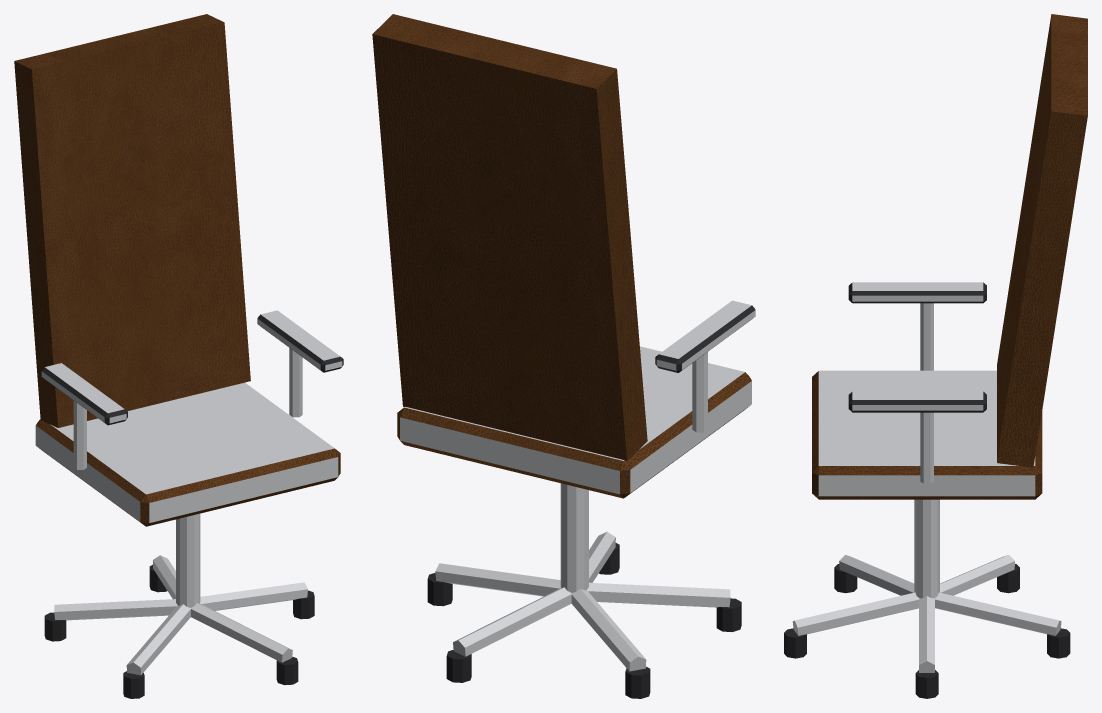
File: judges_chair.glb
3 renders of one model, left to right at view 1: azimuth 30°, elevation 25°; view 2: azimuth 150°, elevation 25°; view 3: azimuth 270°, elevation 25°, orthographic. The views are drawn at different scales.
Visible parts, largest first — view 1: judges_chair; view 2: judges_chair; view 3: judges_chair.
Boxes of the visible parts, x1,y1,x2,y2 form: judges_chair: (14, 14, 343, 698); judges_chair: (372, 14, 755, 698); judges_chair: (784, 14, 1087, 698).
Bounding box in the file's own units: 0.635 × 1.37 × 0.6591.
3 materials, 1 textured.
